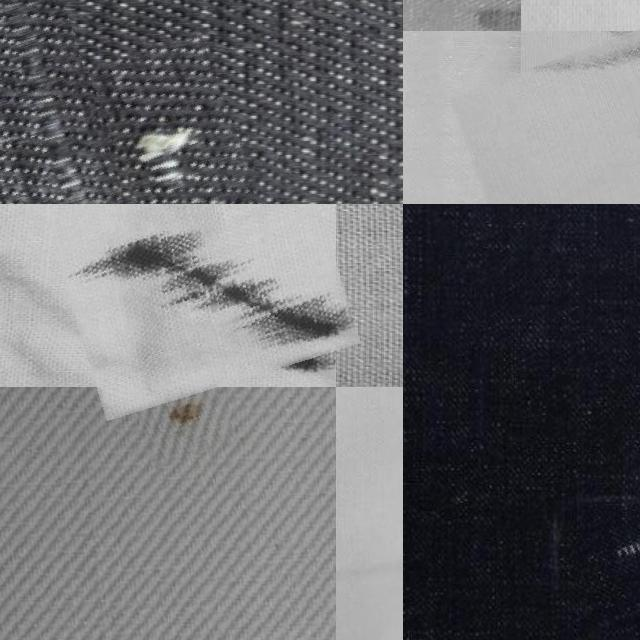Hole: (57, 204, 347, 404), (485, 12, 640, 204), (136, 381, 232, 463), (408, 0, 520, 31)
Thread_other: (107, 36, 265, 204), (564, 505, 640, 619)
